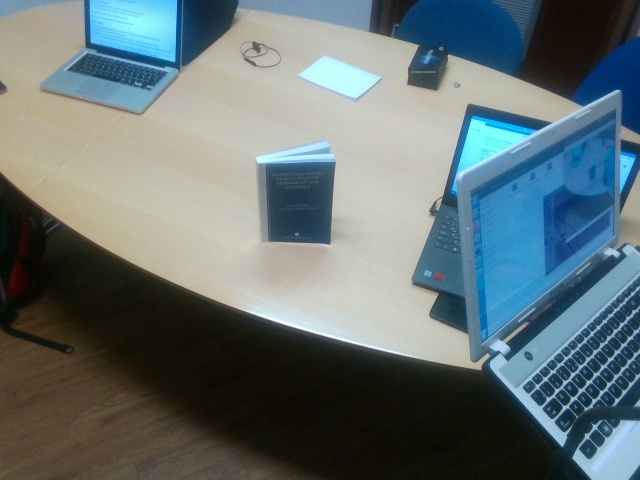book: (256, 141, 337, 245)
